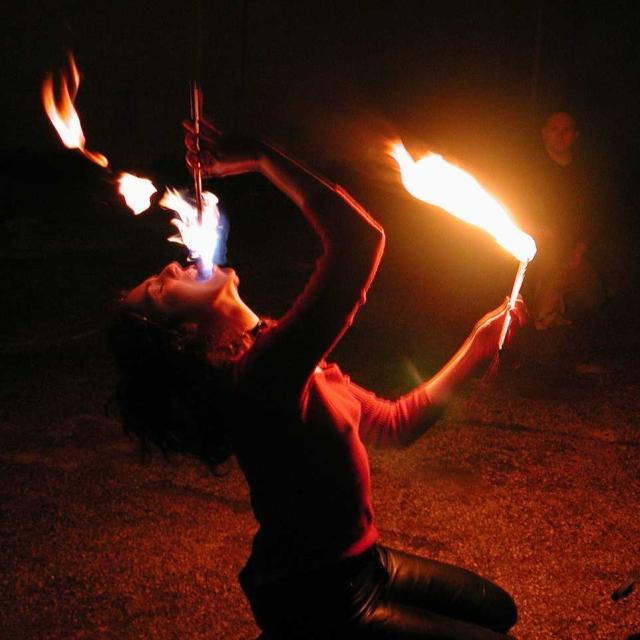Fire: (408, 158, 477, 204), (184, 201, 221, 264), (54, 100, 84, 144), (122, 175, 155, 209), (501, 234, 538, 256)
